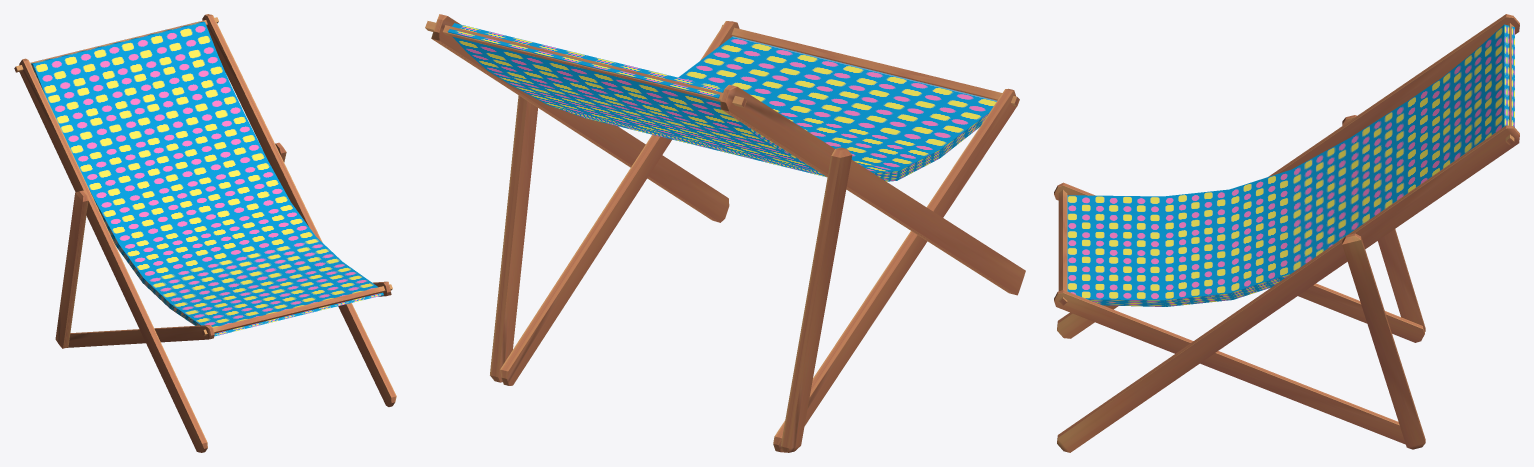
The model's file is lounge-chair-1d.fbx.
The picture shows the model from 3 angles, left to right: view 1: azimuth 30°, elevation 25°; view 2: azimuth 150°, elevation 25°; view 3: azimuth 270°, elevation 25°; orthographic projection. The views are drawn at different scales.
Parts seen in each view (by area): view 1: pCube13; view 2: pCube13; view 3: pCube13.
Boxes of the visible parts, x1,y1,x2,y2 form: pCube13: (14, 14, 396, 452); pCube13: (425, 14, 1025, 452); pCube13: (1054, 14, 1519, 452).
Size of the model in its own units: 95.3 by 117 by 152.
Materials: 1 (1 with a texture image).
